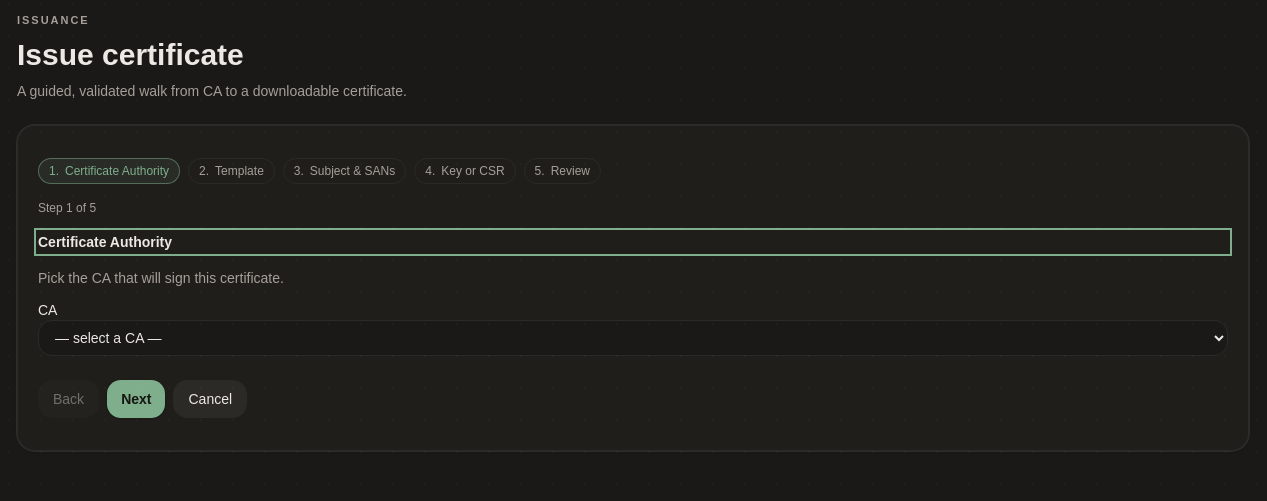
Test: IssueWizard (W8-05) › blocks Next on the CA step until a CA is chosen
Click the button "Next" at (136,398), box [107,380,166,418]
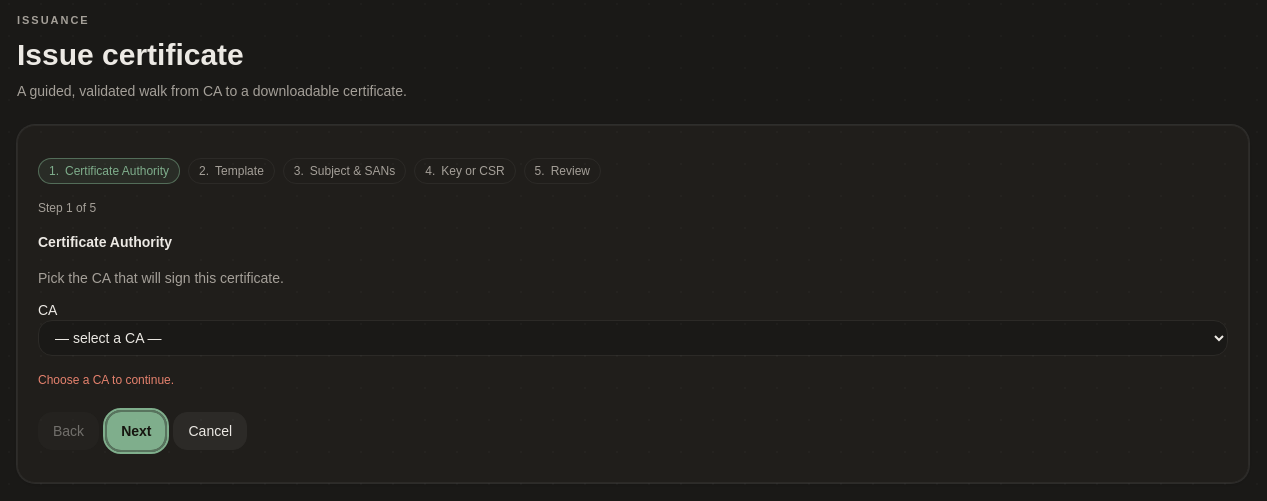
Result: the message shows "Choose a CA to continue" at [38,372,174,386]
